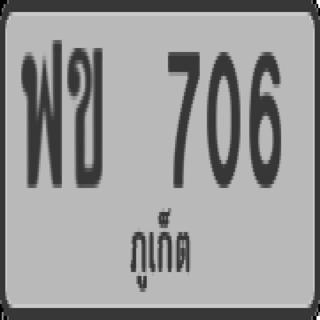A02: (64, 34, 114, 207), (67, 28, 111, 204)
A31: (21, 24, 66, 206)
N00: (204, 45, 244, 205)
N06: (247, 44, 287, 212)
N07: (164, 37, 206, 204)
P48: (116, 204, 202, 296)
